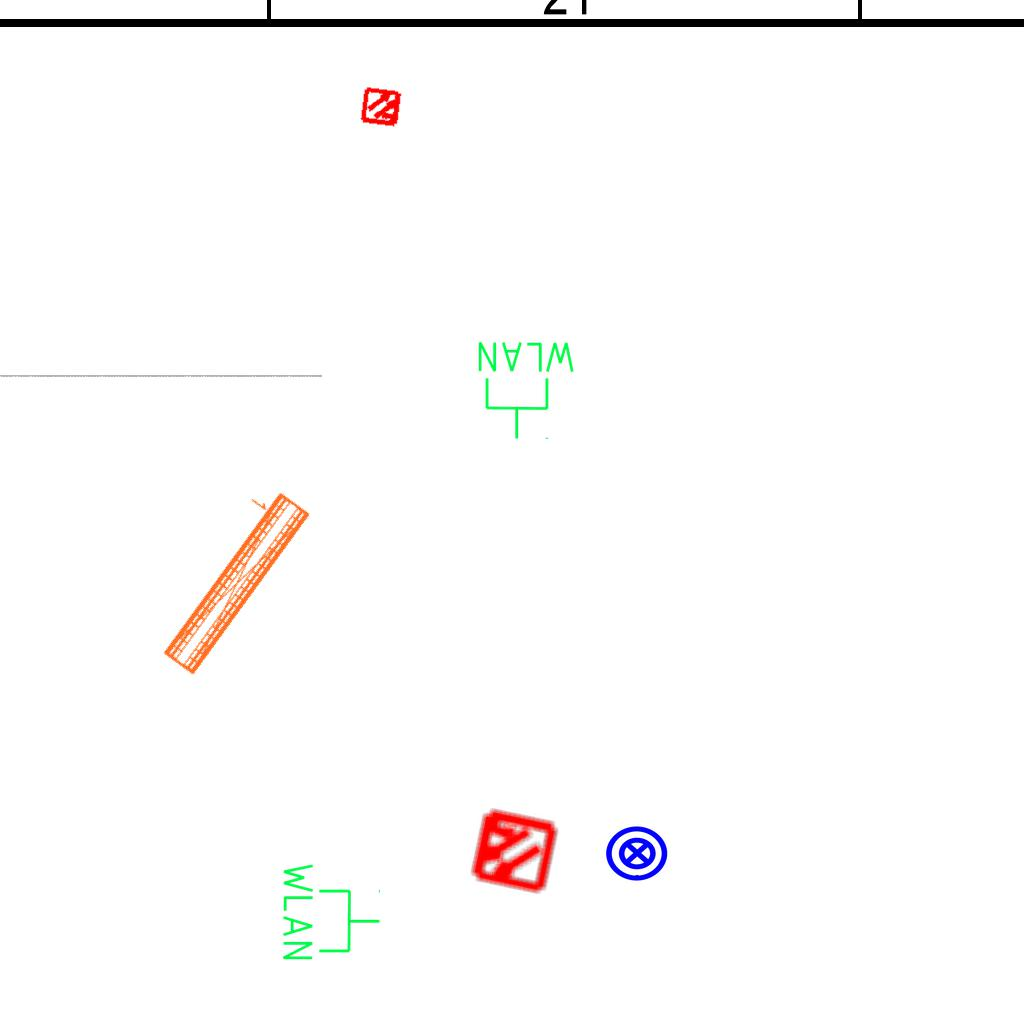Buero_Pendelleuchten_LED: (142, 476, 316, 681)
OT_Multisensormelder_(Kombination_RMO_WMD): (445, 783, 580, 918), (350, 75, 414, 139)
Taster_beleuchtet: (604, 820, 670, 886)
WLAN: (279, 859, 383, 964), (474, 338, 579, 442)
